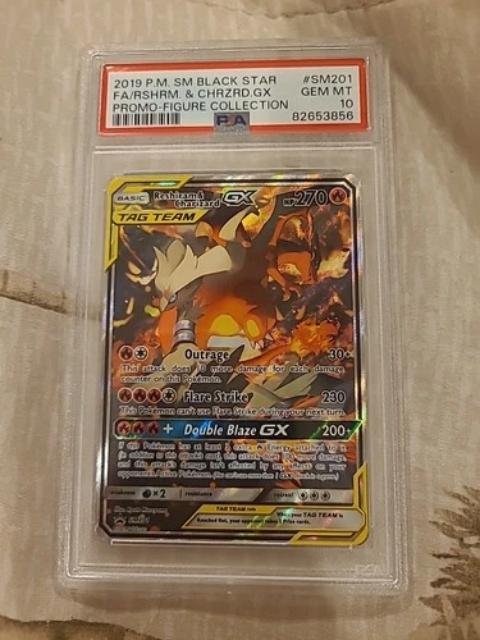Card: (92, 166, 375, 552)
Name: (149, 183, 266, 212)
